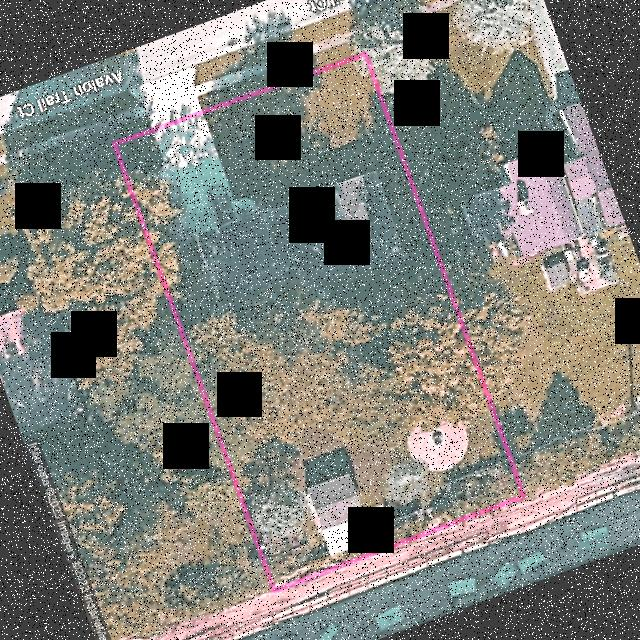Driveway: (145, 114, 258, 243)
Extra Driveway: (127, 65, 201, 125)
Extra Lawn: (193, 8, 358, 86), (197, 36, 366, 108), (98, 89, 143, 118), (106, 114, 152, 141)
Extra Sidewalk: (194, 26, 361, 95), (104, 104, 147, 127)
House: (195, 171, 402, 313)
Other: (367, 461, 513, 540), (406, 407, 468, 470), (308, 474, 362, 528), (322, 516, 371, 553)
